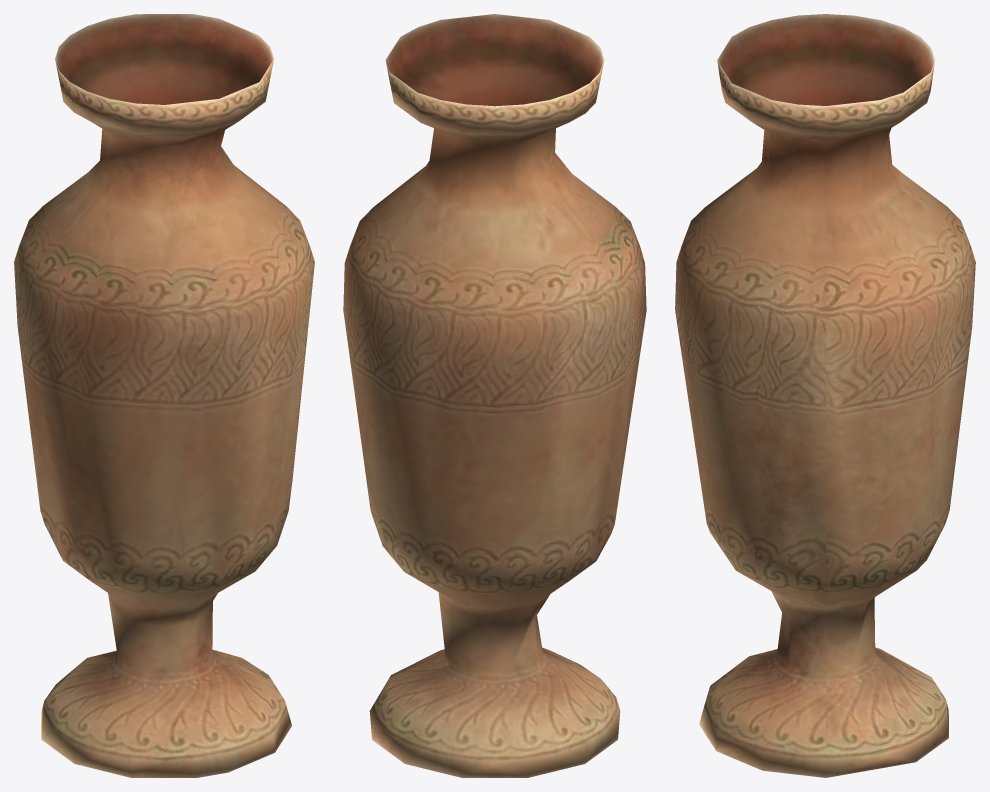
File: brass-vase.glb
3 renders of one model, left to right at view 1: azimuth 30°, elevation 25°; view 2: azimuth 150°, elevation 25°; view 3: azimuth 270°, elevation 25°, orthographic.
Parts seen in each view (by area): view 1: brass_vase_03; view 2: brass_vase_03; view 3: brass_vase_03.
Boxes of the visible parts, x1,y1,x2,y2 form: brass_vase_03: [14, 14, 314, 777]; brass_vase_03: [343, 14, 646, 777]; brass_vase_03: [675, 14, 975, 777].
Bounding box in the file's own units: 0.0821 × 0.2 × 0.0821.
1 material, 1 textured.
